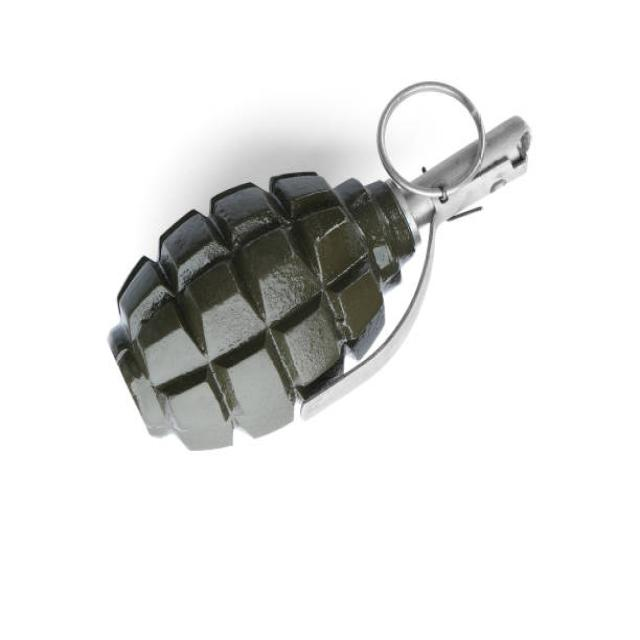grenade: (105, 80, 537, 463)
